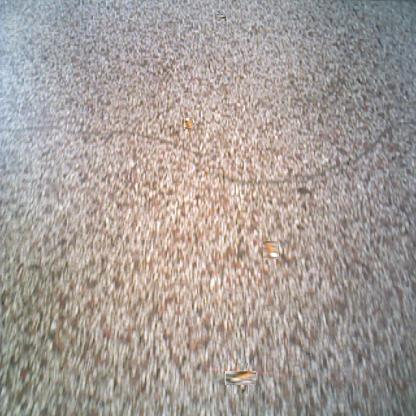dirty: (230, 367, 252, 390), (262, 241, 278, 259), (183, 117, 195, 128), (216, 14, 226, 24)
